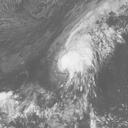cyclone: (57, 36, 100, 76)
